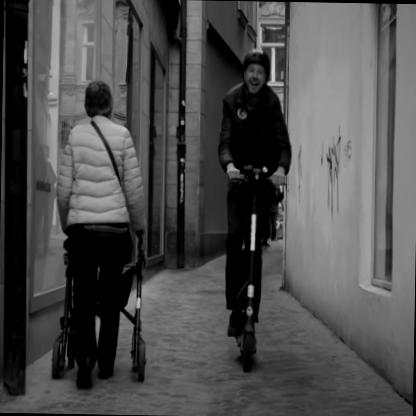helmet: (229, 44, 280, 96)
human: (221, 49, 286, 308)
kickboard: (223, 309, 267, 368)
